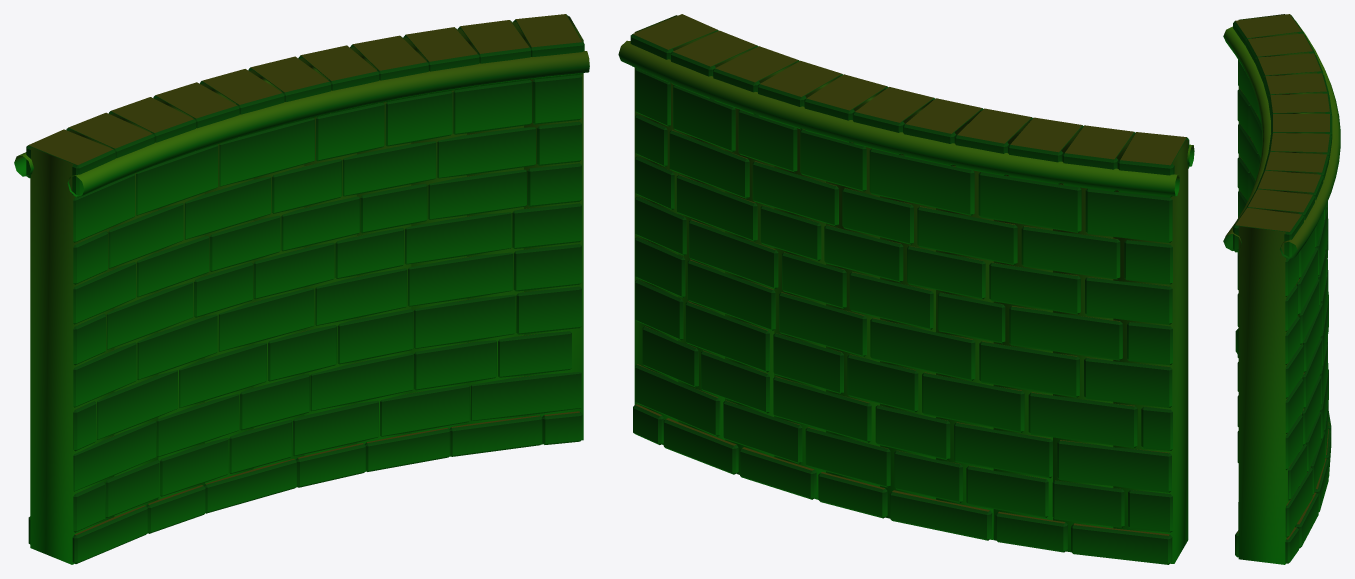
File: shrine_wall_curved.glb
3 renders of one model, left to right at view 1: azimuth 30°, elevation 25°; view 2: azimuth 150°, elevation 25°; view 3: azimuth 270°, elevation 25°, orthographic. The views are drawn at different scales.
Visible parts, largest first — view 1: shrine_wall_curved; view 2: shrine_wall_curved; view 3: shrine_wall_curved.
Part boxes in pixels (x1,y1,x2,y2): shrine_wall_curved: (14, 14, 589, 564); shrine_wall_curved: (618, 14, 1194, 564); shrine_wall_curved: (1223, 14, 1340, 564).
Size of what is drawn, in the model's own units: 6.1 by 4.2 by 1.34.
